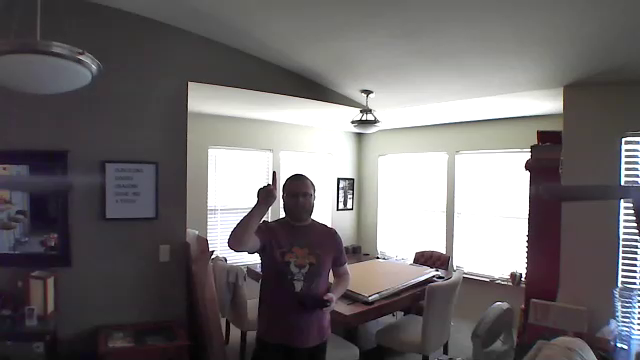up: (256, 165, 282, 204)
